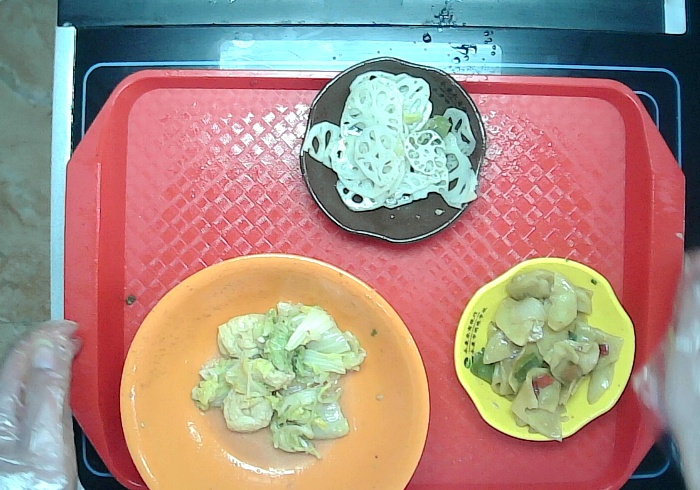YKMZ-Huang_Se_Ao_Bian_Wan: (451, 250, 642, 451)
YKMZ-Ju_Se_Tang_Wan: (115, 247, 443, 490)
YKMZ-Ka_Fei_Ao_Bian_Wan: (296, 51, 493, 251)
